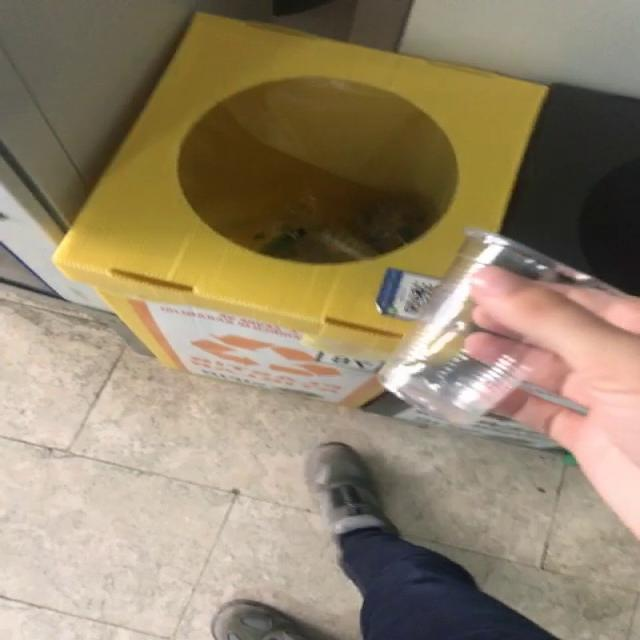Plastic: (379, 228, 620, 424)
